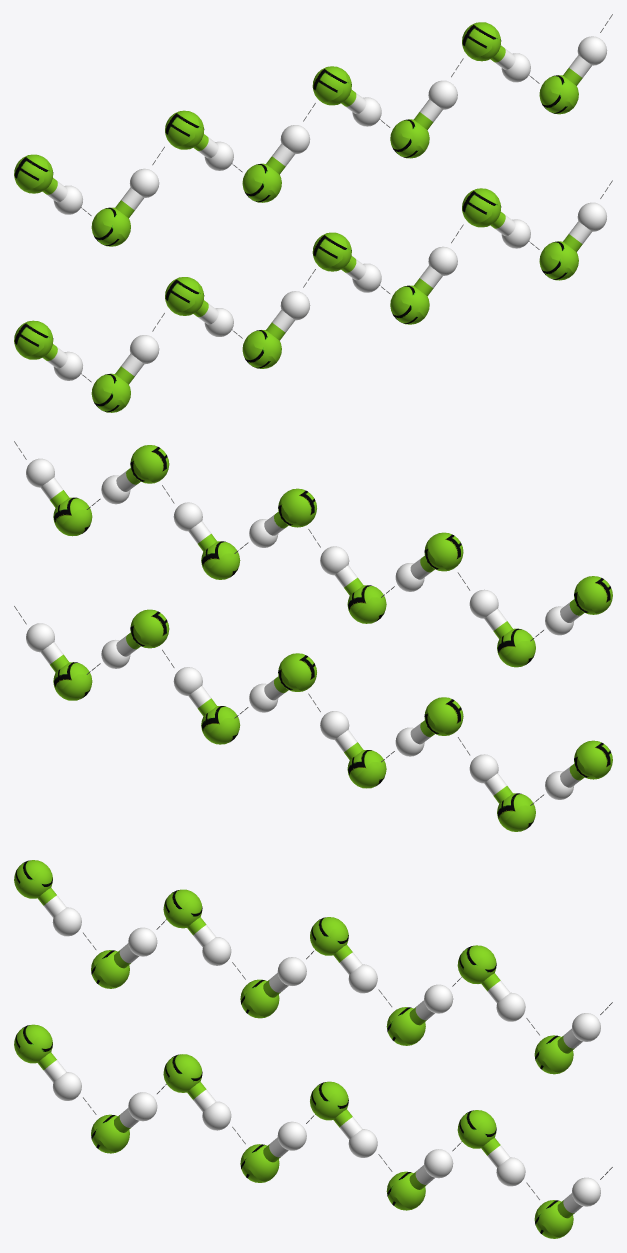
Rendered from acido fluorhidrico.glb.
3 renders of one model, top to bottom at view 1: azimuth 30°, elevation 25°; view 2: azimuth 150°, elevation 25°; view 3: azimuth 330°, elevation 25°, orthographic.
Visible parts, largest first — view 1: Shape_IndexedFaceSet.006, Shape_IndexedFaceSet.030, Shape_IndexedFaceSet.002, Shape_IndexedFaceSet.026, Shape_IndexedFaceSet.014, Shape_IndexedFaceSet.018, Shape_IndexedFaceSet.010, Shape_IndexedFaceSet.022, Shape_IndexedFaceSet.004, Shape_IndexedFaceSet.032, Shape_IndexedFaceSet.008, Shape_IndexedFaceSet.020 (+20 smaller); view 2: Shape_IndexedFaceSet.002, Shape_IndexedFaceSet.010, Shape_IndexedFaceSet.006, Shape_IndexedFaceSet.022, Shape_IndexedFaceSet.026, Shape_IndexedFaceSet.030, Shape_IndexedFaceSet.014, Shape_IndexedFaceSet.018, Shape_IndexedFaceSet.028, Shape_IndexedFaceSet.016, Shape_IndexedFaceSet.012, Shape_IndexedFaceSet.008 (+20 smaller); view 3: Shape_IndexedFaceSet.004, Shape_IndexedFaceSet.024, Shape_IndexedFaceSet.028, Shape_IndexedFaceSet.008, Shape_IndexedFaceSet.012, Shape_IndexedFaceSet.016, Shape_IndexedFaceSet.020, Shape_IndexedFaceSet.032, Shape_IndexedFaceSet.026, Shape_IndexedFaceSet.022, Shape_IndexedFaceSet.002, Shape_IndexedFaceSet.006 (+20 smaller).
Boxes of the visible parts, bbox=[...] form: Shape_IndexedFaceSet.006: bbox=[539, 234, 582, 280]; Shape_IndexedFaceSet.030: bbox=[91, 200, 134, 246]; Shape_IndexedFaceSet.002: bbox=[390, 278, 433, 324]; Shape_IndexedFaceSet.026: bbox=[242, 156, 285, 202]; Shape_IndexedFaceSet.014: bbox=[91, 366, 134, 412]; Shape_IndexedFaceSet.018: bbox=[390, 112, 433, 158]; Shape_IndexedFaceSet.010: bbox=[242, 322, 285, 368]; Shape_IndexedFaceSet.022: bbox=[539, 68, 582, 114]; Shape_IndexedFaceSet.004: bbox=[312, 232, 356, 272]; Shape_IndexedFaceSet.032: bbox=[14, 154, 57, 194]; Shape_IndexedFaceSet.008: bbox=[462, 188, 505, 228]; Shape_IndexedFaceSet.020: bbox=[312, 66, 356, 106]; Shape_IndexedFaceSet.002: bbox=[197, 698, 240, 744]; Shape_IndexedFaceSet.010: bbox=[344, 742, 386, 788]; Shape_IndexedFaceSet.006: bbox=[50, 654, 92, 700]; Shape_IndexedFaceSet.022: bbox=[50, 490, 92, 536]; Shape_IndexedFaceSet.026: bbox=[344, 577, 386, 623]; Shape_IndexedFaceSet.030: bbox=[493, 621, 535, 667]; Shape_IndexedFaceSet.014: bbox=[493, 786, 535, 831]; Shape_IndexedFaceSet.018: bbox=[198, 533, 240, 579]; Shape_IndexedFaceSet.028: bbox=[420, 532, 463, 572]; Shape_IndexedFaceSet.016: bbox=[569, 740, 612, 780]; Shape_IndexedFaceSet.012: bbox=[420, 697, 463, 736]; Shape_IndexedFaceSet.008: bbox=[126, 609, 169, 649]; Shape_IndexedFaceSet.004: bbox=[310, 1081, 352, 1127]; Shape_IndexedFaceSet.024: bbox=[457, 945, 500, 991]; Shape_IndexedFaceSet.028: bbox=[163, 889, 206, 935]; Shape_IndexedFaceSet.008: bbox=[457, 1110, 500, 1155]; Shape_IndexedFaceSet.012: bbox=[163, 1054, 206, 1099]; Shape_IndexedFaceSet.016: bbox=[14, 1024, 56, 1070]; Shape_IndexedFaceSet.020: bbox=[310, 917, 352, 962]; Shape_IndexedFaceSet.032: bbox=[14, 860, 56, 905]; Shape_IndexedFaceSet.026: bbox=[240, 979, 280, 1018]; Shape_IndexedFaceSet.022: bbox=[534, 1035, 574, 1074]; Shape_IndexedFaceSet.002: bbox=[386, 1171, 426, 1210]; Shape_IndexedFaceSet.006: bbox=[534, 1200, 574, 1238].
Size of the model in its own units: 118 by 56.09 by 6.76.
3 materials, 1 textured.
